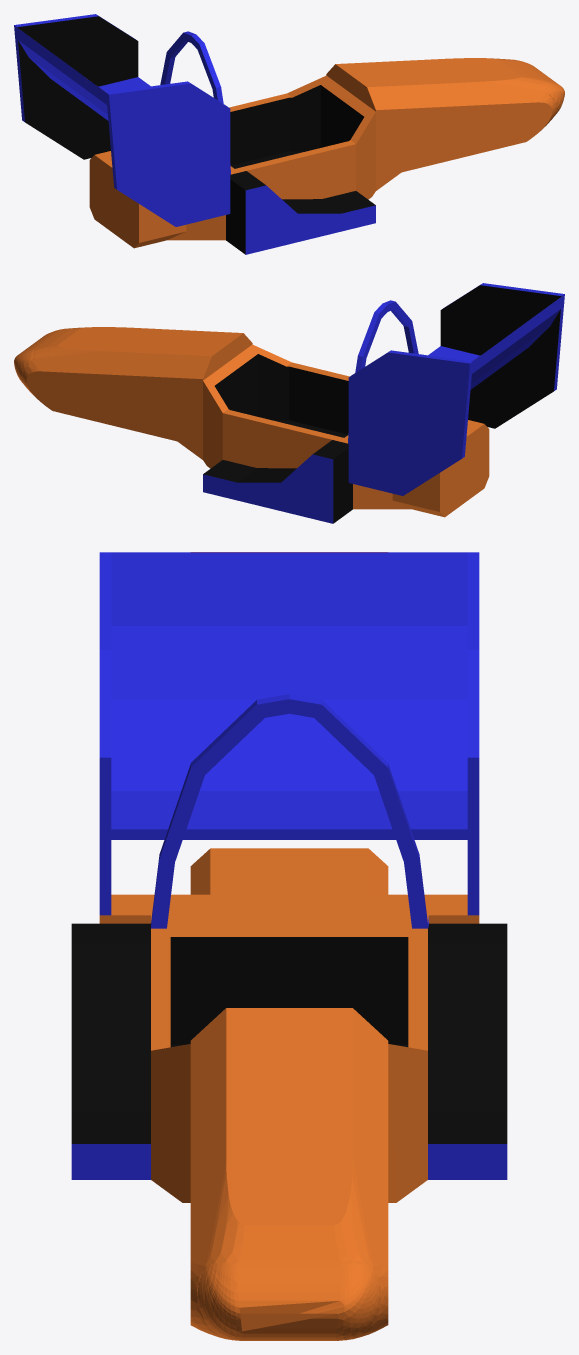
File: lando.dae
3 renders of one model, top to bottom at view 1: azimuth 30°, elevation 25°; view 2: azimuth 150°, elevation 25°; view 3: azimuth 270°, elevation 25°, orthographic. The views are drawn at different scales.
Parts seen in each view (by area): view 1: Lando2; view 2: Lando2; view 3: Lando2.
Part boxes in pixels (left/top/right/bottom): Lando2: left=14, top=14, right=564, bottom=254; Lando2: left=14, top=283, right=564, bottom=523; Lando2: left=71, top=552, right=507, bottom=1340.
Size of the model in its own units: 2.86 by 1.1 by 1.04.
